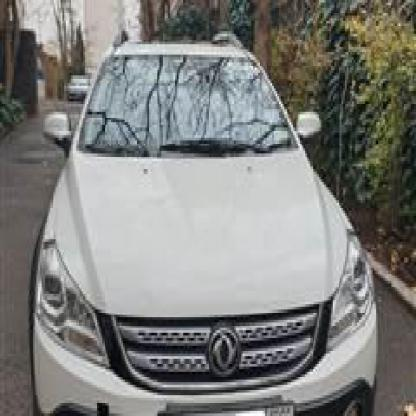car: (37, 32, 387, 414), (62, 68, 92, 104)
